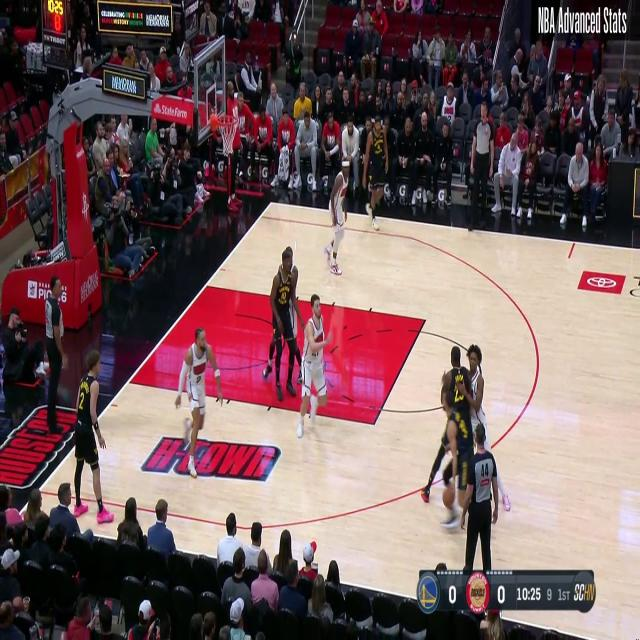ball: (442, 478, 455, 508)
judge: (462, 424, 498, 575), (44, 273, 68, 434)
player: (422, 344, 476, 507), (174, 330, 224, 478), (72, 355, 111, 517), (268, 249, 307, 400), (300, 295, 332, 433), (441, 397, 472, 531), (463, 337, 498, 441), (322, 156, 352, 277), (362, 117, 388, 230)
